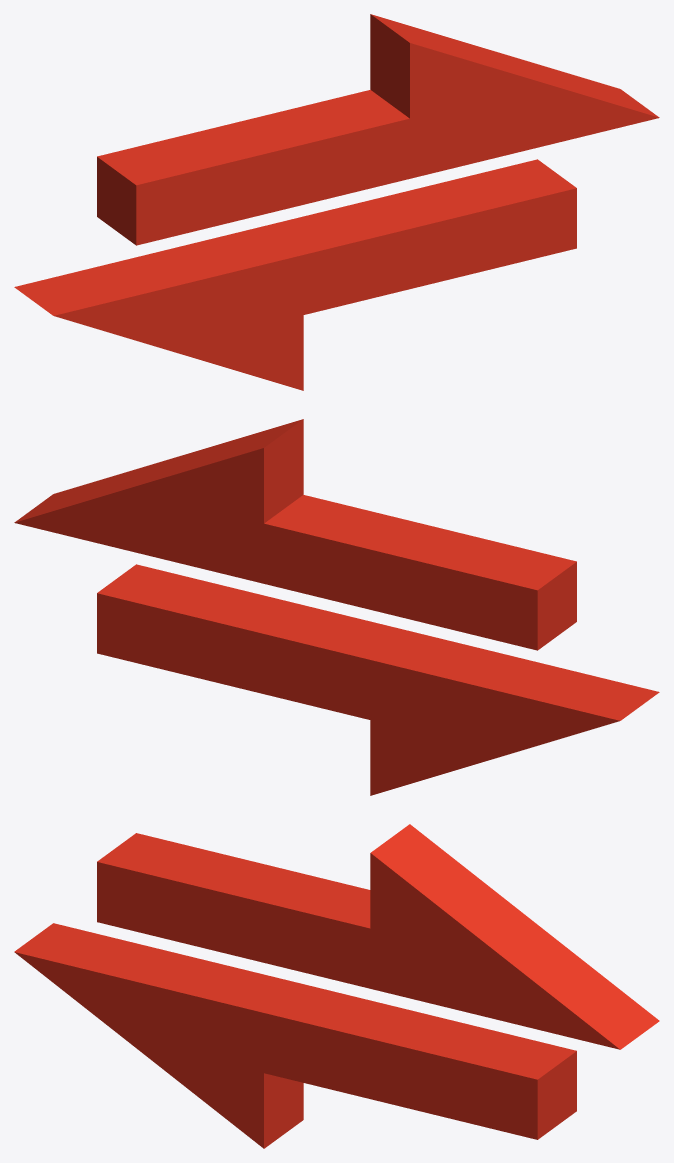
The model's file is Icon_Arrow_09.fbx.
3 views of the same model, one above another, from view 1: azimuth 30°, elevation 25°; view 2: azimuth 150°, elevation 25°; view 3: azimuth 330°, elevation 25° (orthographic).
Visible parts, largest first — view 1: Icon_Arrow_09; view 2: Icon_Arrow_09; view 3: Icon_Arrow_09.
Part boxes in pixels (x1=…): Icon_Arrow_09: x1=14, y1=14, x2=659, y2=390; Icon_Arrow_09: x1=14, y1=419, x2=659, y2=795; Icon_Arrow_09: x1=14, y1=824, x2=659, y2=1148.
Bounding box in the file's own units: 107 × 54.38 × 12.06.
